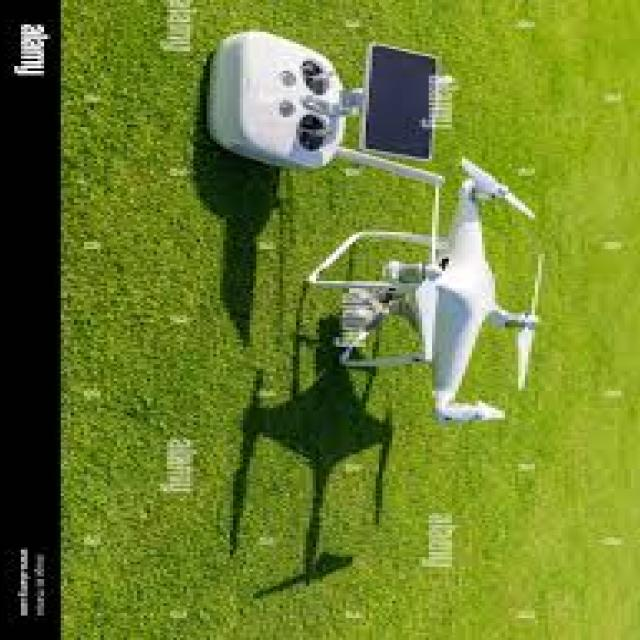drone: (298, 153, 565, 435)
